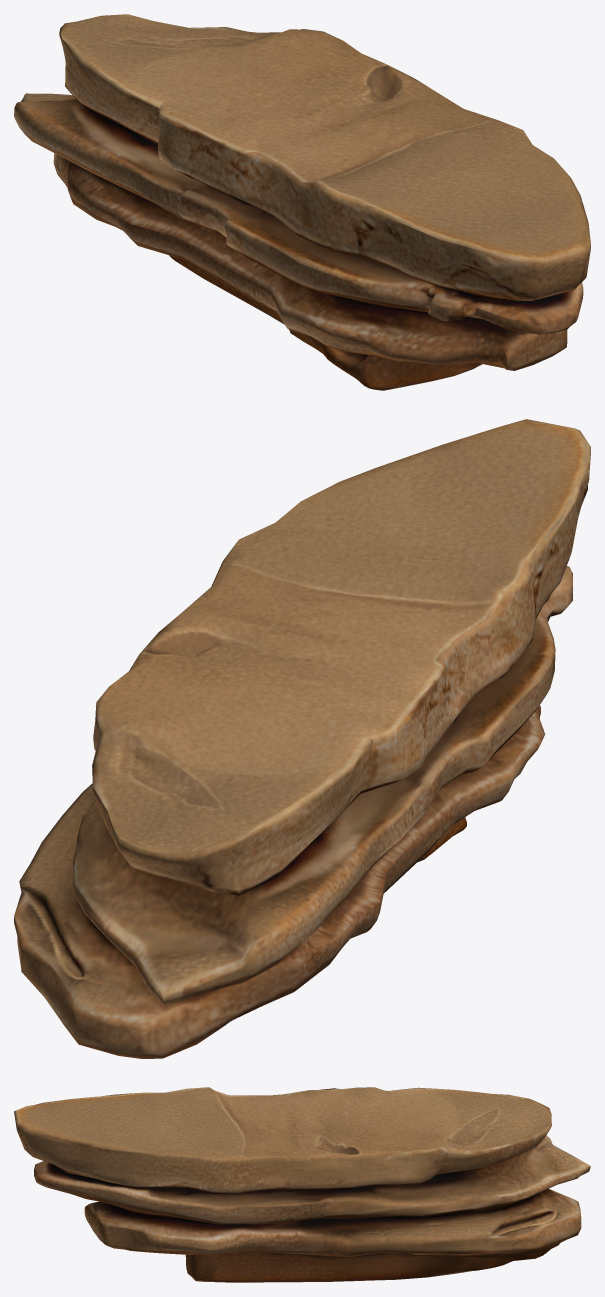
The model's file is desert_ledge_b_single.glb.
3 renders of one model, top to bottom at view 1: azimuth 30°, elevation 25°; view 2: azimuth 150°, elevation 25°; view 3: azimuth 270°, elevation 25°, orthographic. The views are drawn at different scales.
Parts seen in each view (by area): view 1: desert_ledge_b_single; view 2: desert_ledge_b_single; view 3: desert_ledge_b_single.
Boxes of the visible parts, box(x1,y1,x2,y2) form: desert_ledge_b_single: box(14, 14, 590, 390); desert_ledge_b_single: box(14, 419, 590, 1058); desert_ledge_b_single: box(14, 1087, 590, 1282).
Bounding box in the file's own units: 1.33 × 0.9642 × 3.42.
Materials: 1 (1 with a texture image).
